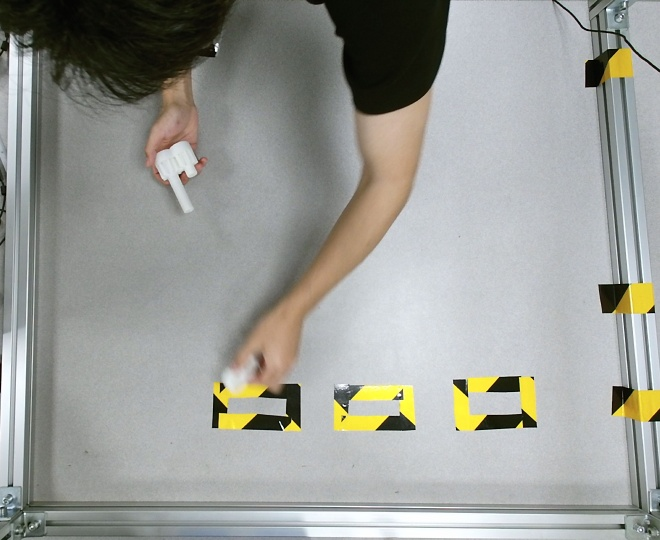stage_3: (154, 138, 198, 213)
